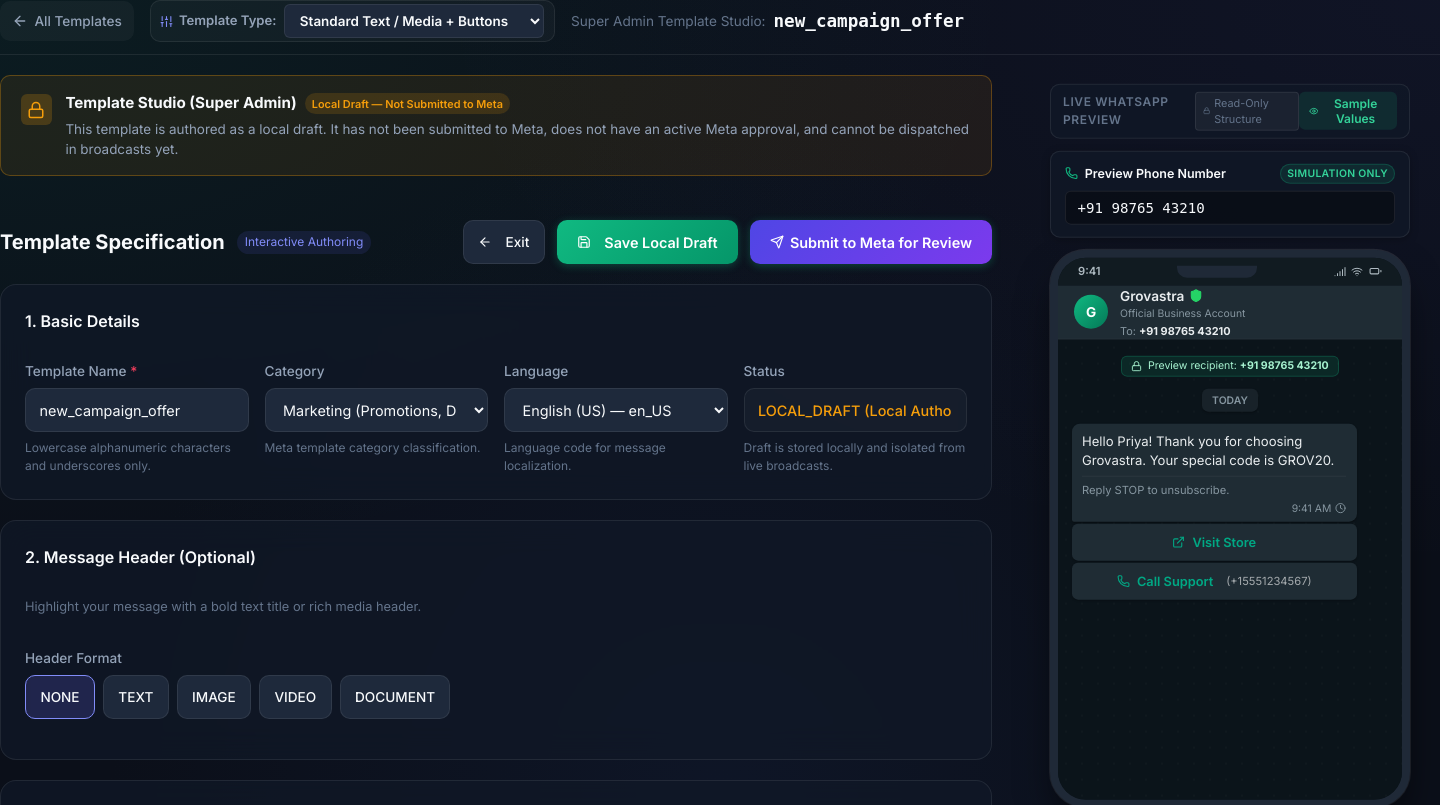
Template Studio Meta Submission & Approval Flow › 2. UI Submission Review Modal & User Confirmation › opens review modal with full template specification when Submit to Meta is clicked
Click the button with test id "submit-meta-btn" at x=871, y=242, box [750,220,992,264]
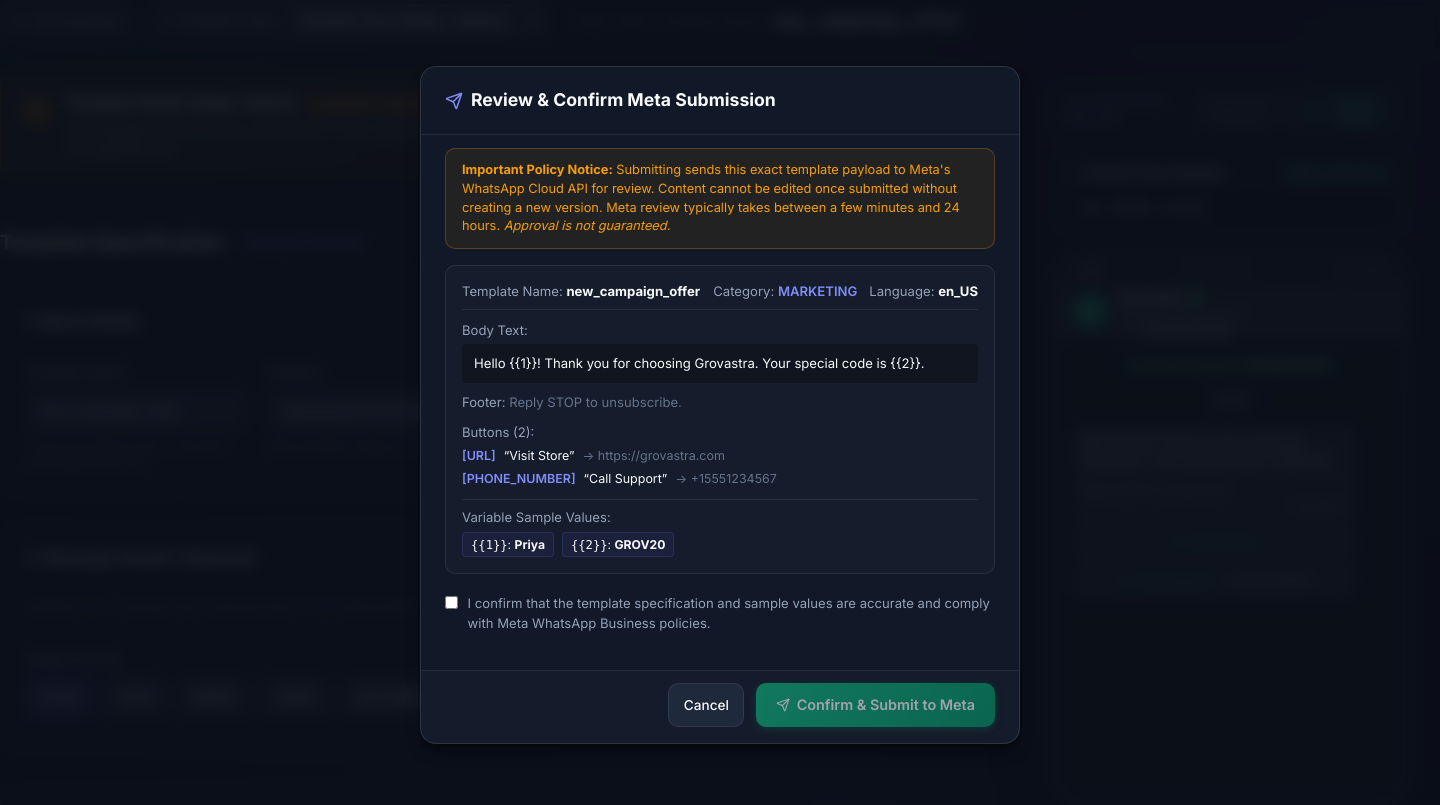
Check: the dialog with test id "submit-meta-modal" is shown, box [420,66,1020,744]
Check: the text "Review & Confirm Meta Submission" is shown, box [471,88,776,114]
Check: the text "Important Policy Notice:" is shown, box [462,162,613,178]
